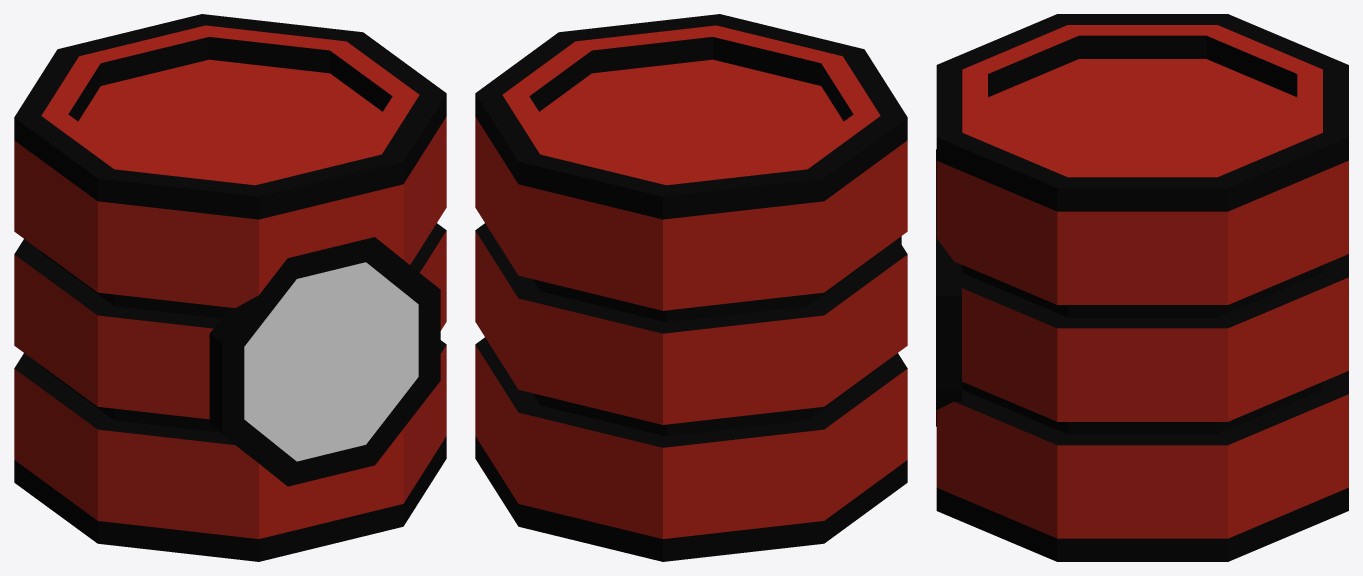
File: ExplosiveBarrel.fbx
3 views of the same model, side by side, from view 1: azimuth 30°, elevation 25°; view 2: azimuth 150°, elevation 25°; view 3: azimuth 270°, elevation 25° (orthographic). The views are drawn at different scales.
Visible parts, largest first — view 1: ExplosiveBarrel, Sign; view 2: ExplosiveBarrel; view 3: ExplosiveBarrel, Sign.
Boxes of the visible parts, x1,y1,x2,y2 form: ExplosiveBarrel: [14, 14, 446, 561]; Sign: [209, 237, 440, 486]; ExplosiveBarrel: [475, 14, 907, 561]; ExplosiveBarrel: [936, 14, 1348, 561]; Sign: [936, 149, 961, 426].
Size of the model in its own units: 1 by 1 by 1.
